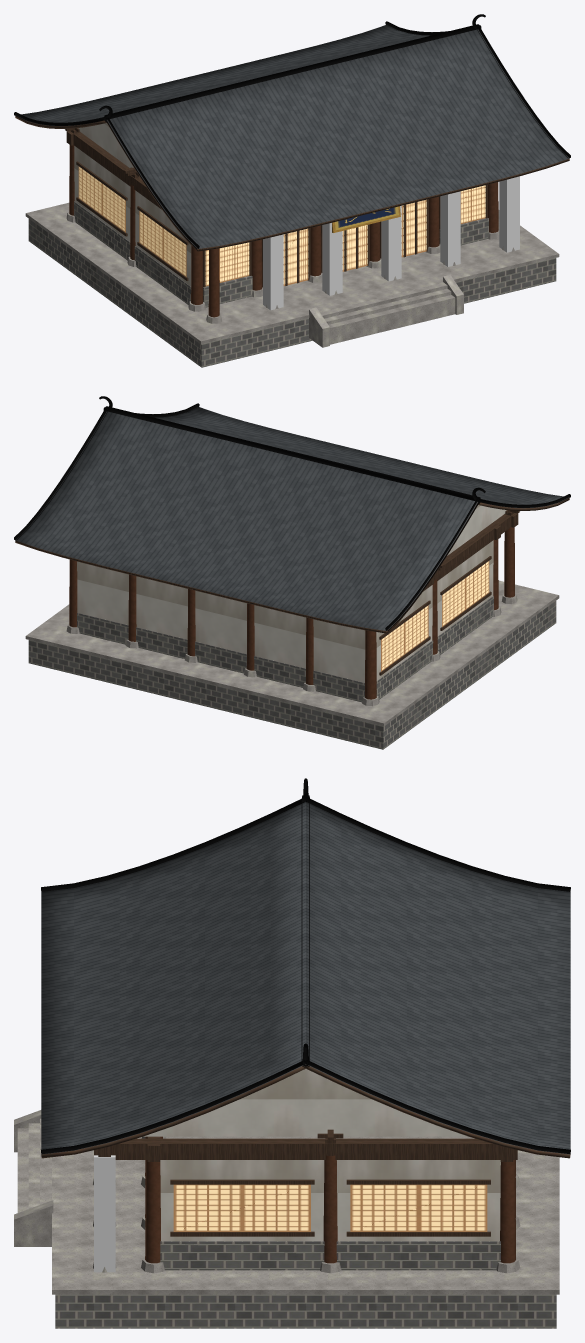
The model's file is bathhouse.glb.
3 renders of one model, top to bottom at view 1: azimuth 30°, elevation 25°; view 2: azimuth 150°, elevation 25°; view 3: azimuth 270°, elevation 25°, orthographic. The views are drawn at different scales.
Parts seen in each view (by area): view 1: BathhouseRoof, BathhousePodiumCap, BathhousePodiumBase, BathhouseLattice, BathhouseColumns, BathhouseStairsfront, BathhouseRoofRidge, BathhouseDado, BathhouseFrames, BathhouseWalls, BathhouseVCol-convcolonly.005, BathhouseVCol-convcolonly.001 (+8 smaller); view 2: BathhouseRoof, BathhouseWalls, BathhousePodiumBase, BathhousePodiumCap, BathhouseDado, BathhouseColumns, BathhouseRoofRidge, BathhouseLattice, BathhouseBeams, BathhouseFrames, BathhouseGables, BathhouseColumnBases; view 3: BathhouseRoof, BathhousePodiumCap, BathhousePodiumBase, BathhouseLattice, BathhouseWalls, BathhouseGables, BathhouseDado, BathhouseBeams, BathhouseRoofRidge, BathhouseColumns, BathhouseFrames, BathhouseStairsfront (+3 smaller).
Boxes of the visible parts, x1,y1,x2,y2 form: BathhouseRoof: [15, 25, 569, 251]; BathhousePodiumCap: [25, 202, 559, 344]; BathhousePodiumBase: [28, 219, 556, 367]; BathhouseLattice: [78, 166, 485, 286]; BathhouseColumns: [69, 145, 498, 317]; BathhouseStairsfront: [320, 282, 455, 344]; BathhouseRoofRidge: [14, 14, 570, 248]; BathhouseDado: [74, 201, 488, 307]; BathhouseFrames: [76, 161, 487, 287]; BathhouseWalls: [74, 146, 191, 286]; BathhouseVCol-convcolonly.005: [499, 176, 519, 252]; BathhouseVCol-convcolonly.001: [263, 234, 283, 310]; BathhouseRoof: [15, 407, 569, 633]; BathhouseWalls: [77, 540, 493, 682]; BathhousePodiumBase: [28, 601, 556, 749]; BathhousePodiumCap: [25, 580, 559, 726]; BathhouseDado: [77, 596, 493, 702]; BathhouseColumns: [69, 527, 514, 699]; BathhouseRoofRidge: [14, 396, 570, 630]; BathhouseLattice: [381, 561, 489, 671]; BathhouseBeams: [423, 513, 518, 591]; BathhouseFrames: [379, 556, 491, 675]; BathhouseGables: [447, 505, 506, 555]; BathhouseColumnBases: [66, 593, 517, 706]; BathhouseRoof: [41, 802, 570, 1158]; BathhousePodiumCap: [52, 1136, 559, 1294]; BathhousePodiumBase: [55, 1294, 556, 1328]; BathhouseLattice: [173, 1184, 487, 1231]; BathhouseWalls: [160, 1160, 500, 1241]; BathhouseGables: [143, 1069, 467, 1136]; BathhouseDado: [160, 1241, 500, 1270]; BathhouseBeams: [94, 1136, 517, 1161]; BathhouseRoofRidge: [41, 778, 570, 1154]; BathhouseColumns: [145, 1136, 515, 1263]; BathhouseFrames: [170, 1179, 490, 1236]; BathhouseStairsfront: [17, 1118, 51, 1212].
Size of what is drawn, in the model's own units: 18.31 by 9.1 by 15.78.
Materials: 11 (11 with a texture image).
